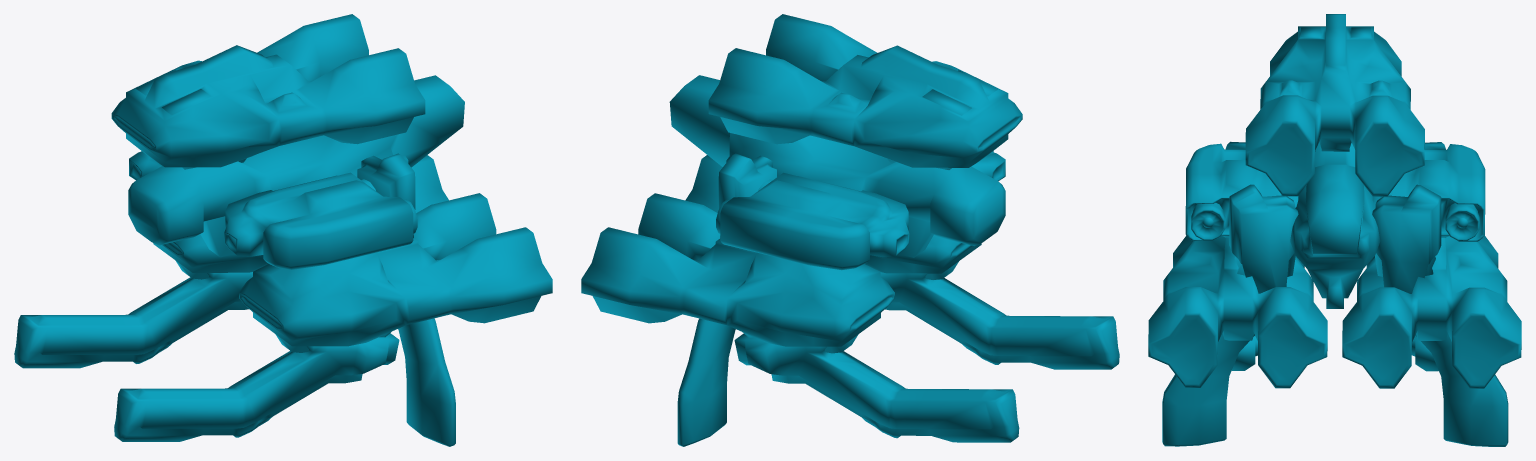
File: ship18_blue.glb
3 renders of one model, left to right at view 1: azimuth 30°, elevation 25°; view 2: azimuth 150°, elevation 25°; view 3: azimuth 270°, elevation 25°, orthographic. The views are drawn at different scales.
Visible parts, largest first — view 1: ME_ship_IndexedFaceSet; view 2: ME_ship_IndexedFaceSet; view 3: ME_ship_IndexedFaceSet.
Boxes of the visible parts, left/top/right/bottom form: ME_ship_IndexedFaceSet: left=14, top=14, right=552, bottom=446; ME_ship_IndexedFaceSet: left=581, top=14, right=1119, bottom=446; ME_ship_IndexedFaceSet: left=1148, top=14, right=1521, bottom=446.
Size of the model in its own units: 299 by 266 by 257.
